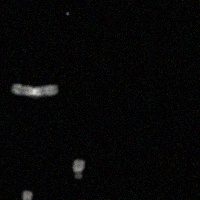chromosome: (11, 81, 59, 96), (73, 158, 85, 180), (15, 190, 33, 200)
